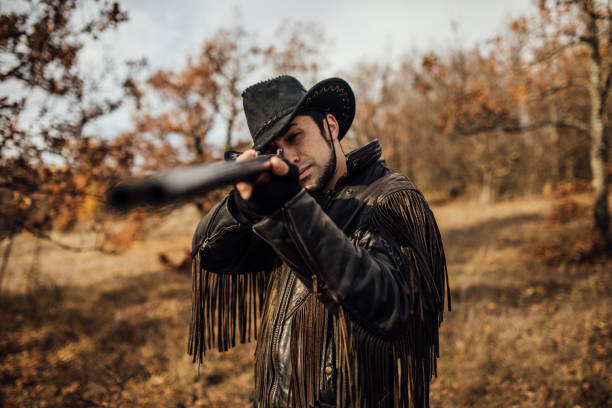gun: (107, 150, 290, 213)
